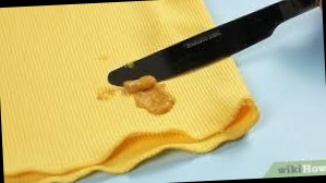mustard: (125, 74, 168, 115), (99, 84, 115, 103)
